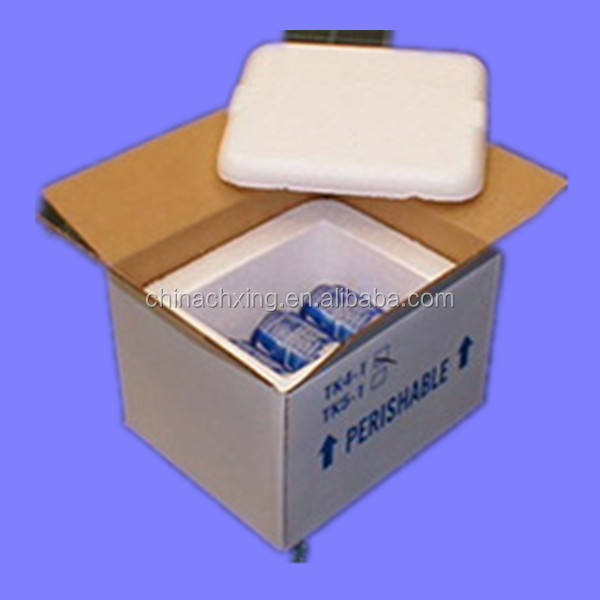泡沫箱: (143, 198, 456, 391)
